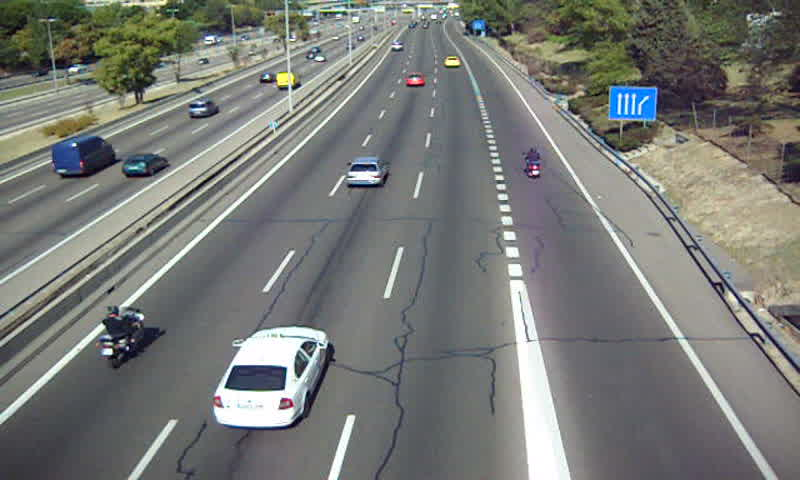car: (214, 327, 328, 427), (344, 156, 389, 185), (406, 72, 424, 90), (444, 56, 462, 67)
motorcycle: (97, 304, 142, 369), (524, 146, 544, 179)
